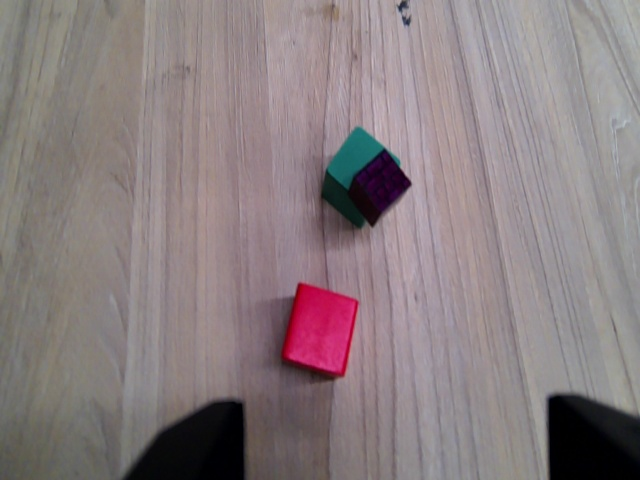brick: (349, 148, 411, 229)
